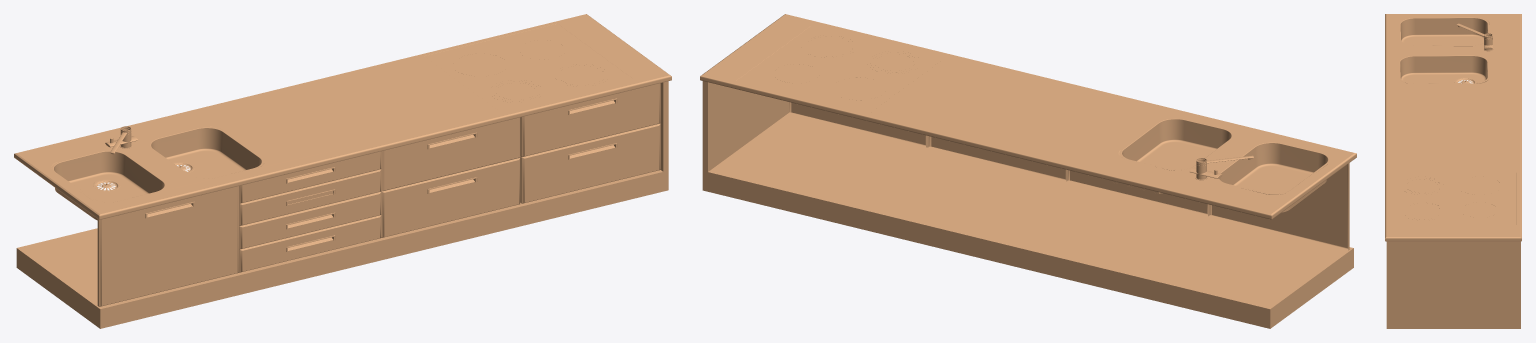
Rendered from kitchen.gltf.
3 views of the same model, side by side, from view 1: azimuth 30°, elevation 25°; view 2: azimuth 150°, elevation 25°; view 3: azimuth 270°, elevation 25° (orthographic). The views are drawn at different scales.
Visible parts, largest first — view 1: cook_006_13; view 2: cook_006_13; view 3: cook_006_13.
Boxes of the visible parts, x1=… form: cook_006_13: x1=14, y1=14, x2=671, y2=328; cook_006_13: x1=700, y1=14, x2=1356, y2=328; cook_006_13: x1=1385, y1=14, x2=1521, y2=328.
Bounding box in the file's own units: 11.54 × 2.55 × 2.98.
